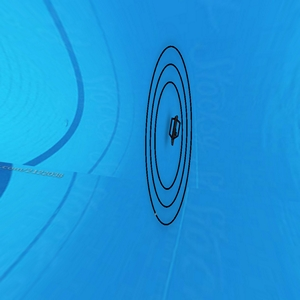circle: (137, 43, 197, 228)
submarine: (171, 116, 184, 144)
